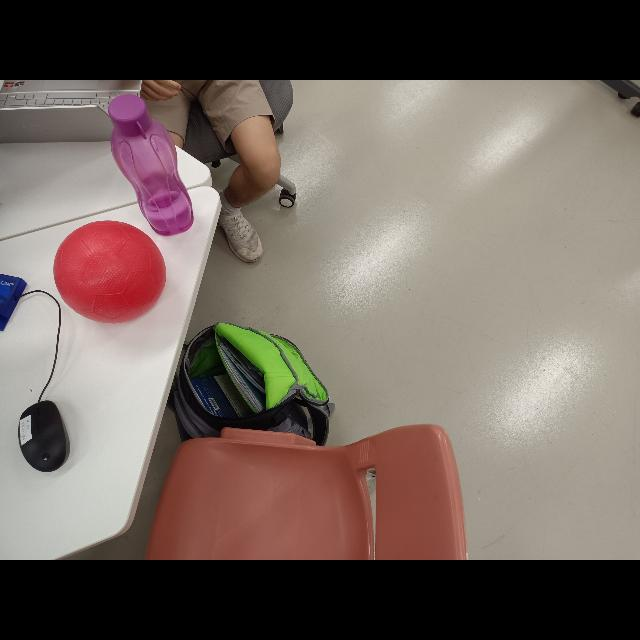R: (56, 220, 170, 326)
